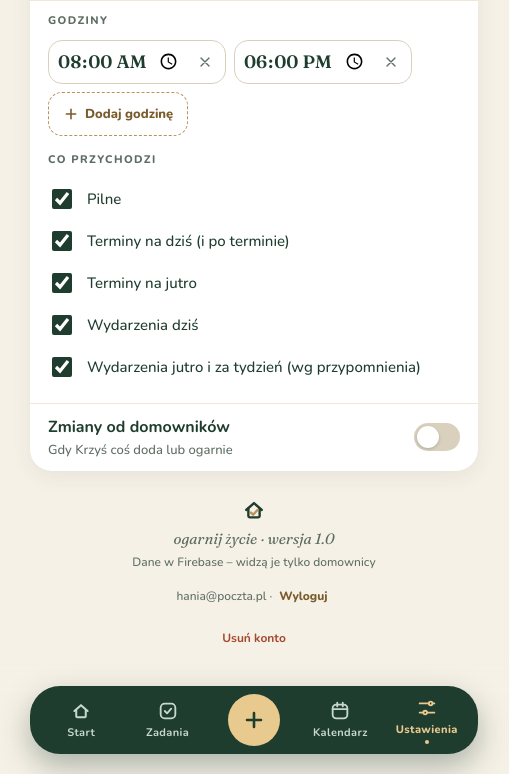
Test: Ustawienia → „Usuń konto” otwiera ekran; bez hasła przycisk nieaktywny
(page scrolled)
Click the link "Usuń konto": (254, 638) [222,630,286,646]
(page scrolled)
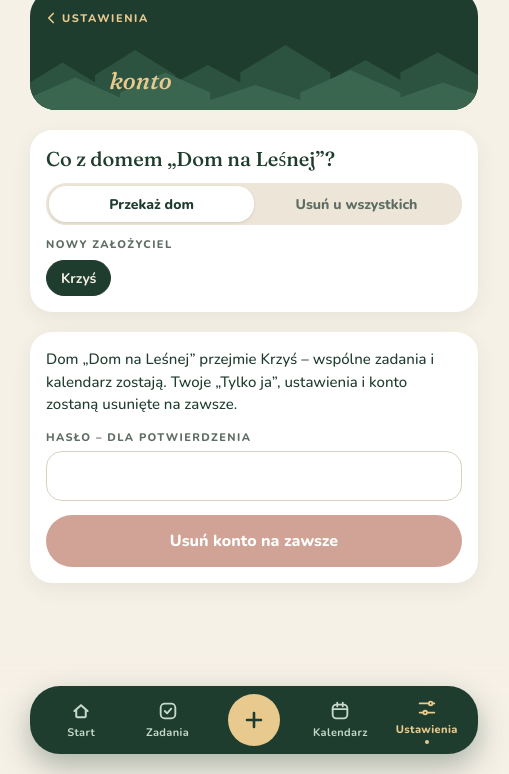
Result: the button "Usuń konto na zawsze" is disabled at [46,514,462,566]
